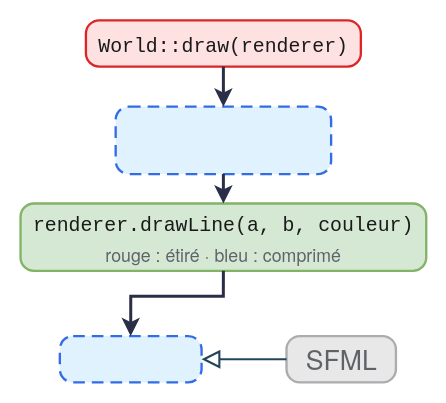
The diagram is 446 pixels wide and 403 high, and some of its shapes have lost their labels. The shapes that lost their labels are listed below. From the top down, each one's box as (x1, y1, x2, y2) in pixels, then its label:
(114, 105, 332, 175): d.draw(renderer) pour chaque Drawable
(58, 334, 202, 383): Renderer
